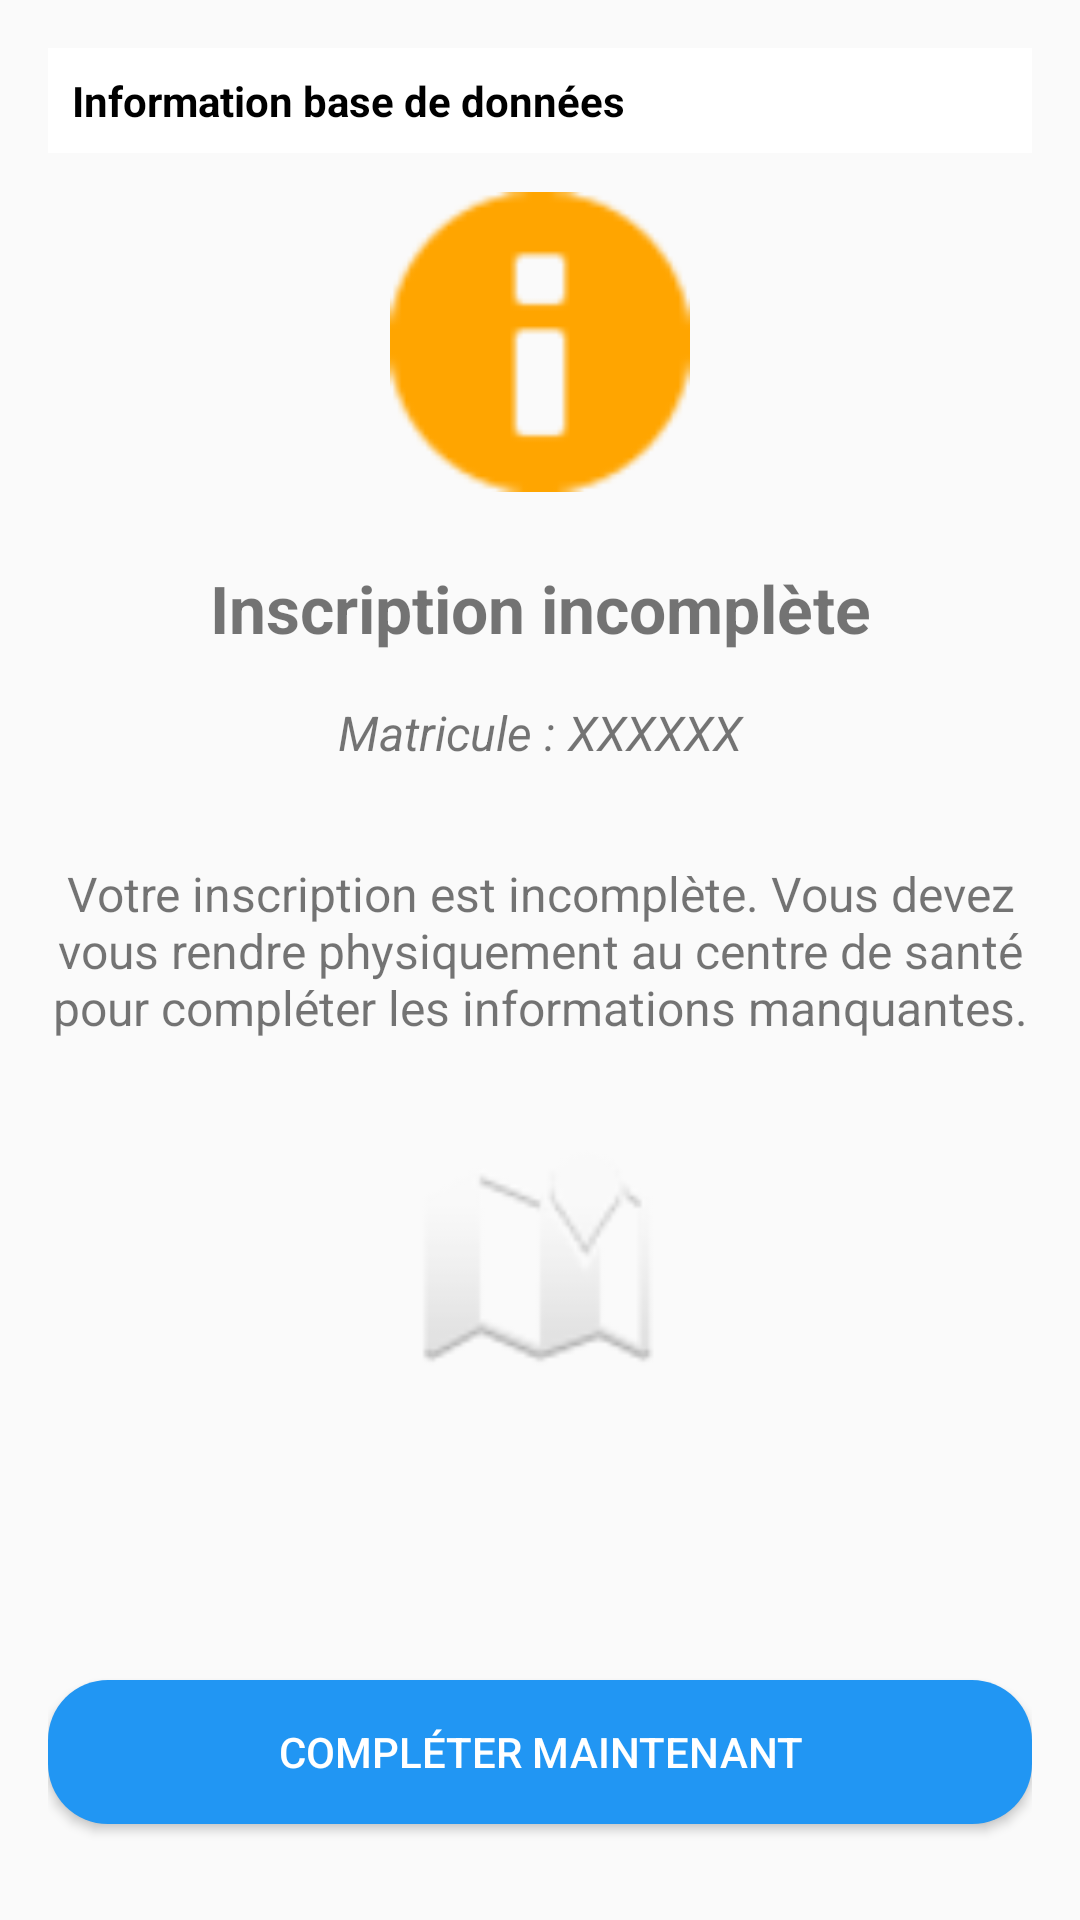

Named icons in this screenshot (1080 x 1920) and their centers, (x,y):
map: (537,1269)
